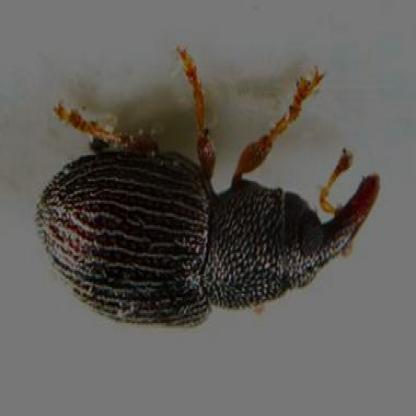rice-bug: (33, 101, 382, 330)
